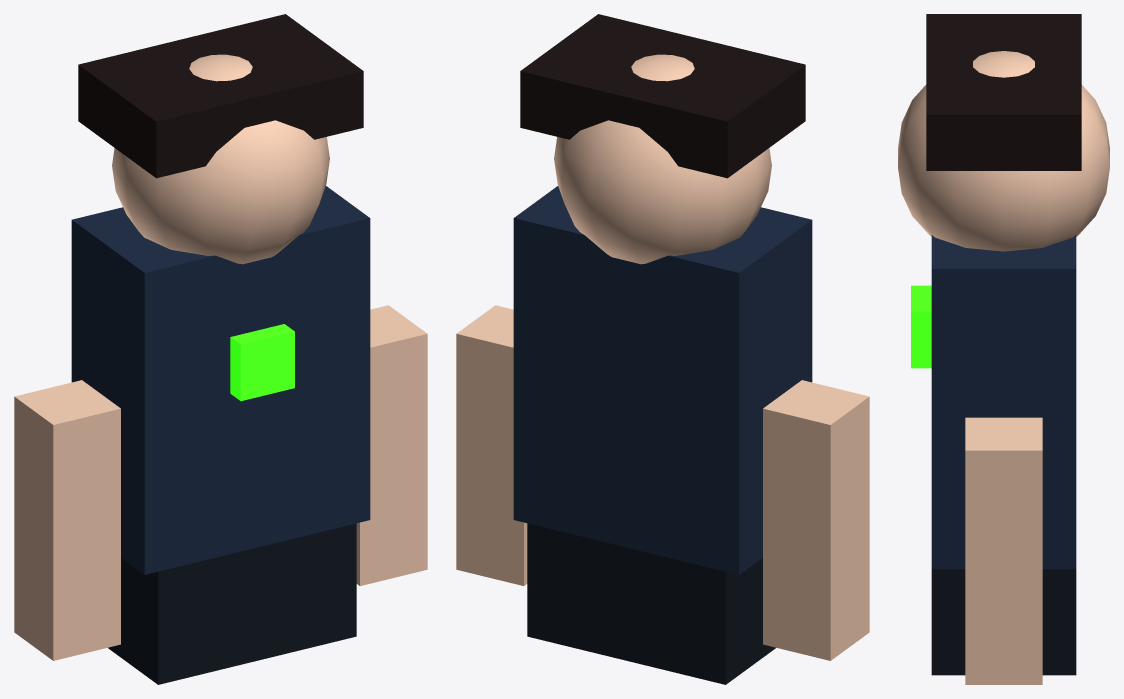
Rendered from tc_msh.glb.
3 renders of one model, left to right at view 1: azimuth 30°, elevation 25°; view 2: azimuth 150°, elevation 25°; view 3: azimuth 270°, elevation 25°, orthographic.
Parts seen in each view (by area): view 1: TC Marshal; view 2: TC Marshal; view 3: TC Marshal.
Boxes of the visible parts, x1,y1,x2,y2 form: TC Marshal: (14,14,427,684); TC Marshal: (456,14,869,684); TC Marshal: (898,14,1109,684).
Bounding box in the file's own units: 0.83 × 1.21 × 0.4095.
